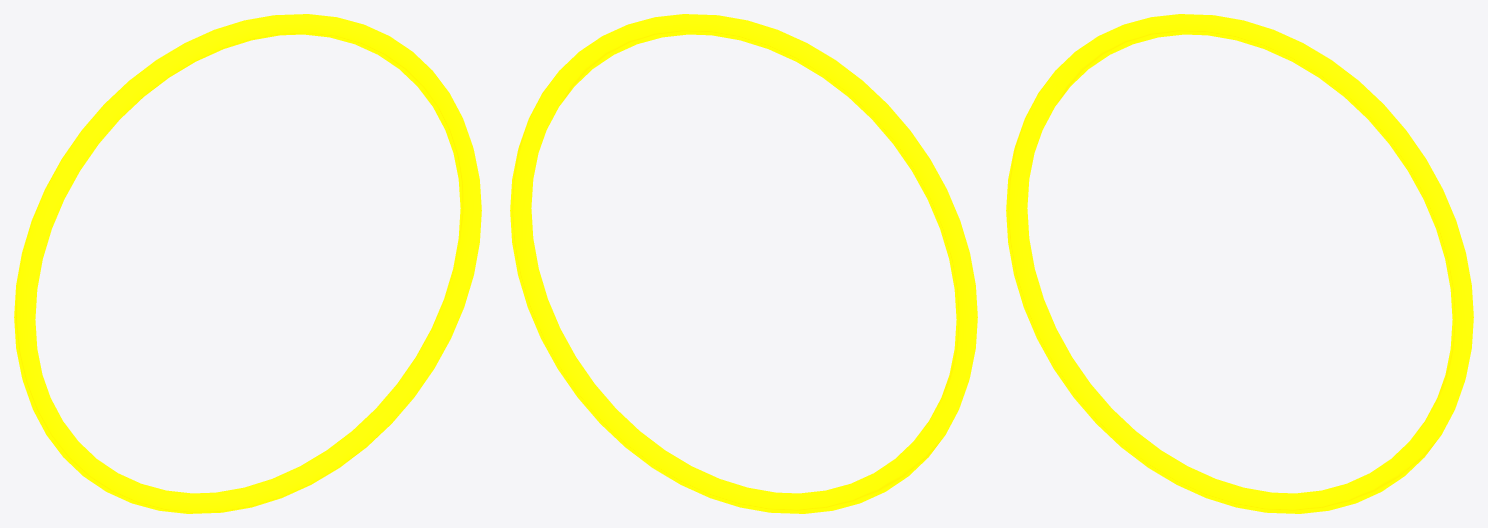
The model's file is locator_ring_igso.glb.
3 renders of one model, left to right at view 1: azimuth 30°, elevation 25°; view 2: azimuth 150°, elevation 25°; view 3: azimuth 330°, elevation 25°, orthographic.
Parts seen in each view (by area): view 1: MarkerMesh; view 2: MarkerMesh; view 3: MarkerMesh.
Part boxes in pixels (box(x1,y1,x2,y2)): MarkerMesh: box(14, 14, 481, 513); MarkerMesh: box(510, 14, 977, 513); MarkerMesh: box(1006, 14, 1473, 513).
Bounding box in the file's own units: 0.73 × 0.73 × 0.03.
